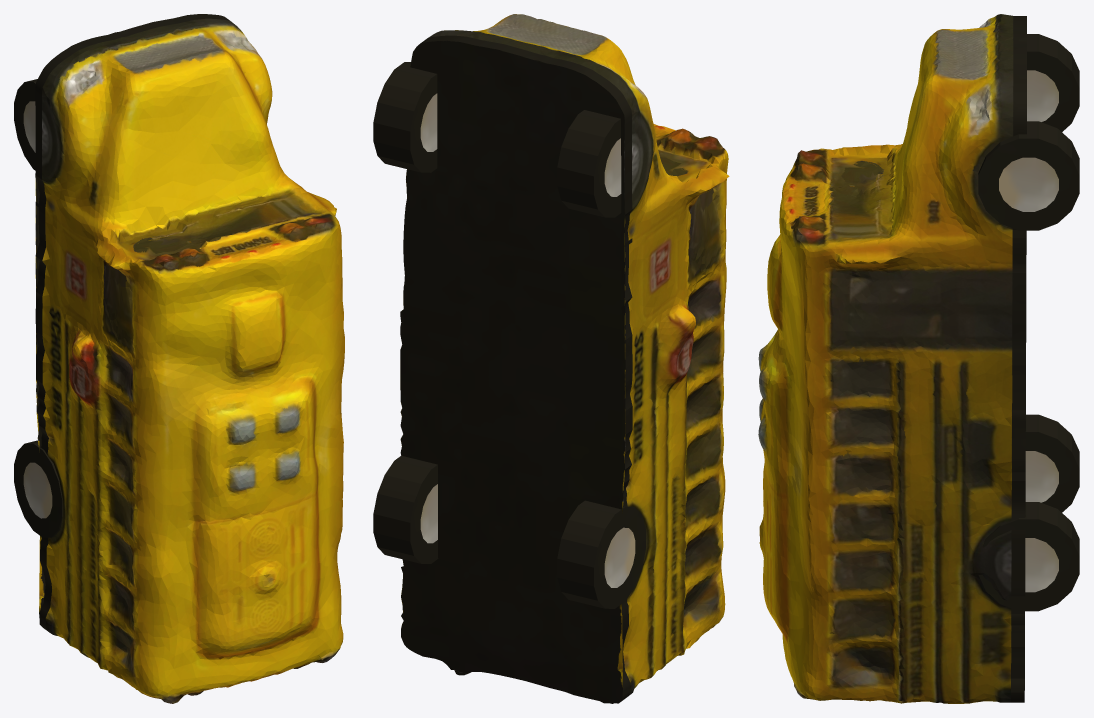
The picture shows the model from 3 angles, left to right: view 1: azimuth 30°, elevation 25°; view 2: azimuth 150°, elevation 25°; view 3: azimuth 270°, elevation 25°; orthographic projection. The views are drawn at different scales.
Parts seen in each view (by area): view 1: bus; view 2: bus; view 3: bus.
Boxes of the visible parts, bbox=[...] form: bus: bbox=[14, 14, 344, 703]; bus: bbox=[373, 14, 729, 703]; bus: bbox=[758, 14, 1079, 703].
Size of the model in its own units: 0.0815 by 0.1994 by 0.0933.
Materials: 1 (1 with a texture image).
